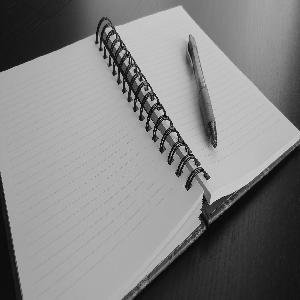pen: (181, 28, 216, 151)
